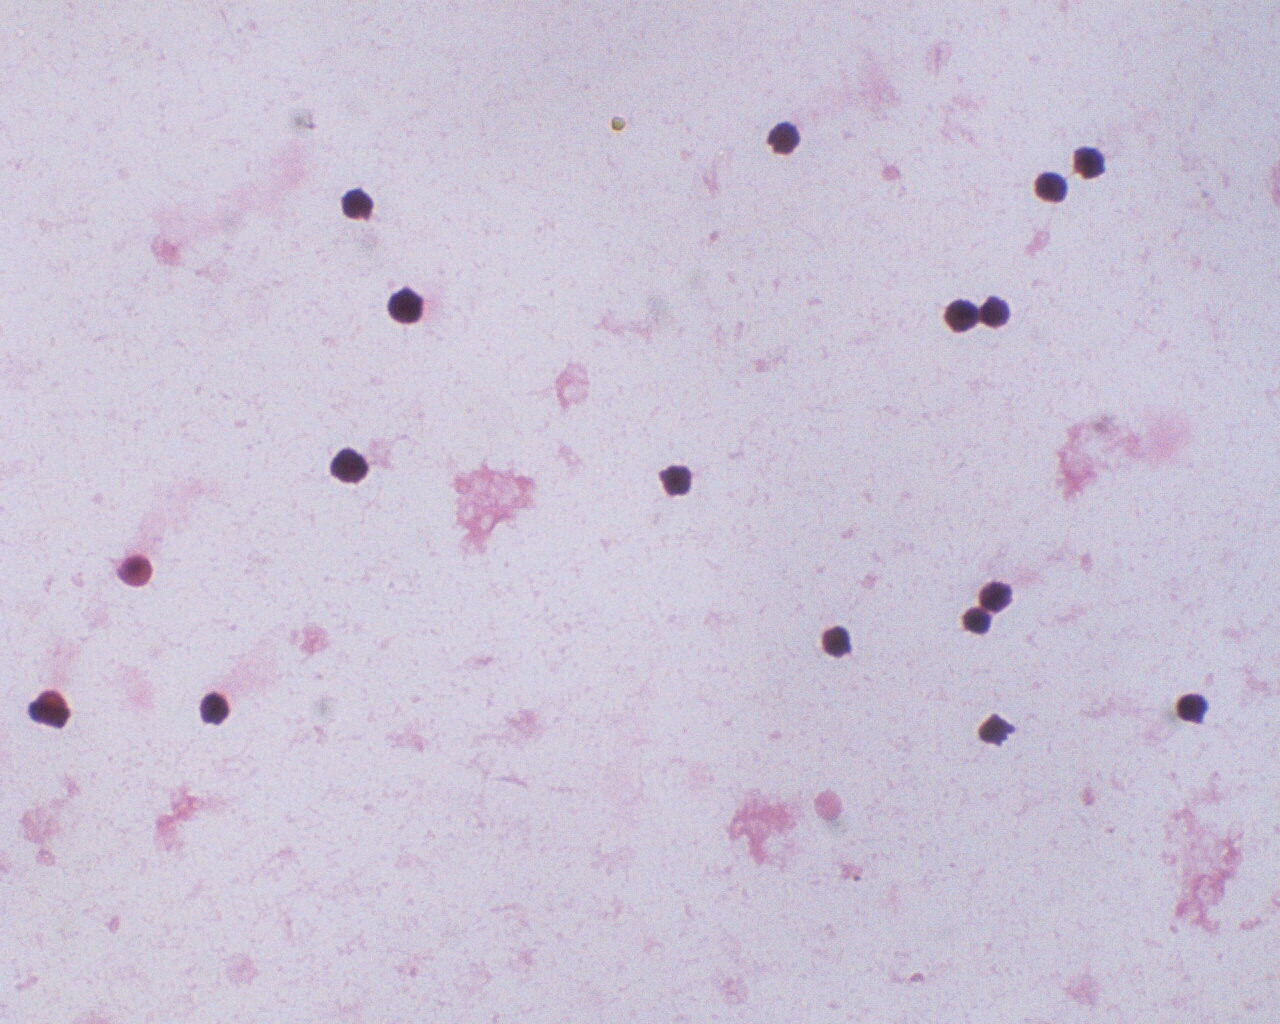lymph: (761, 111, 815, 169), (1026, 161, 1074, 212), (1170, 683, 1217, 732), (383, 281, 429, 329), (818, 615, 861, 667), (338, 178, 377, 229), (940, 293, 982, 340), (196, 684, 234, 731), (960, 601, 997, 639)
